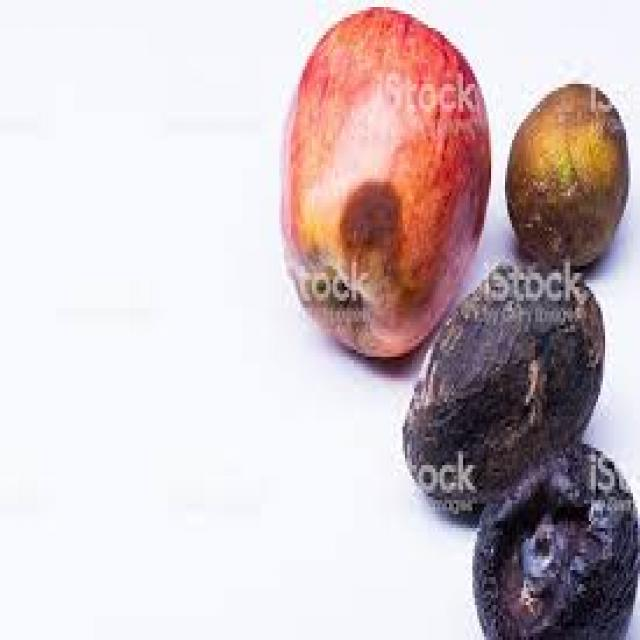organic waste: (274, 0, 488, 353), (400, 255, 603, 525), (470, 434, 638, 636), (505, 80, 628, 262)
